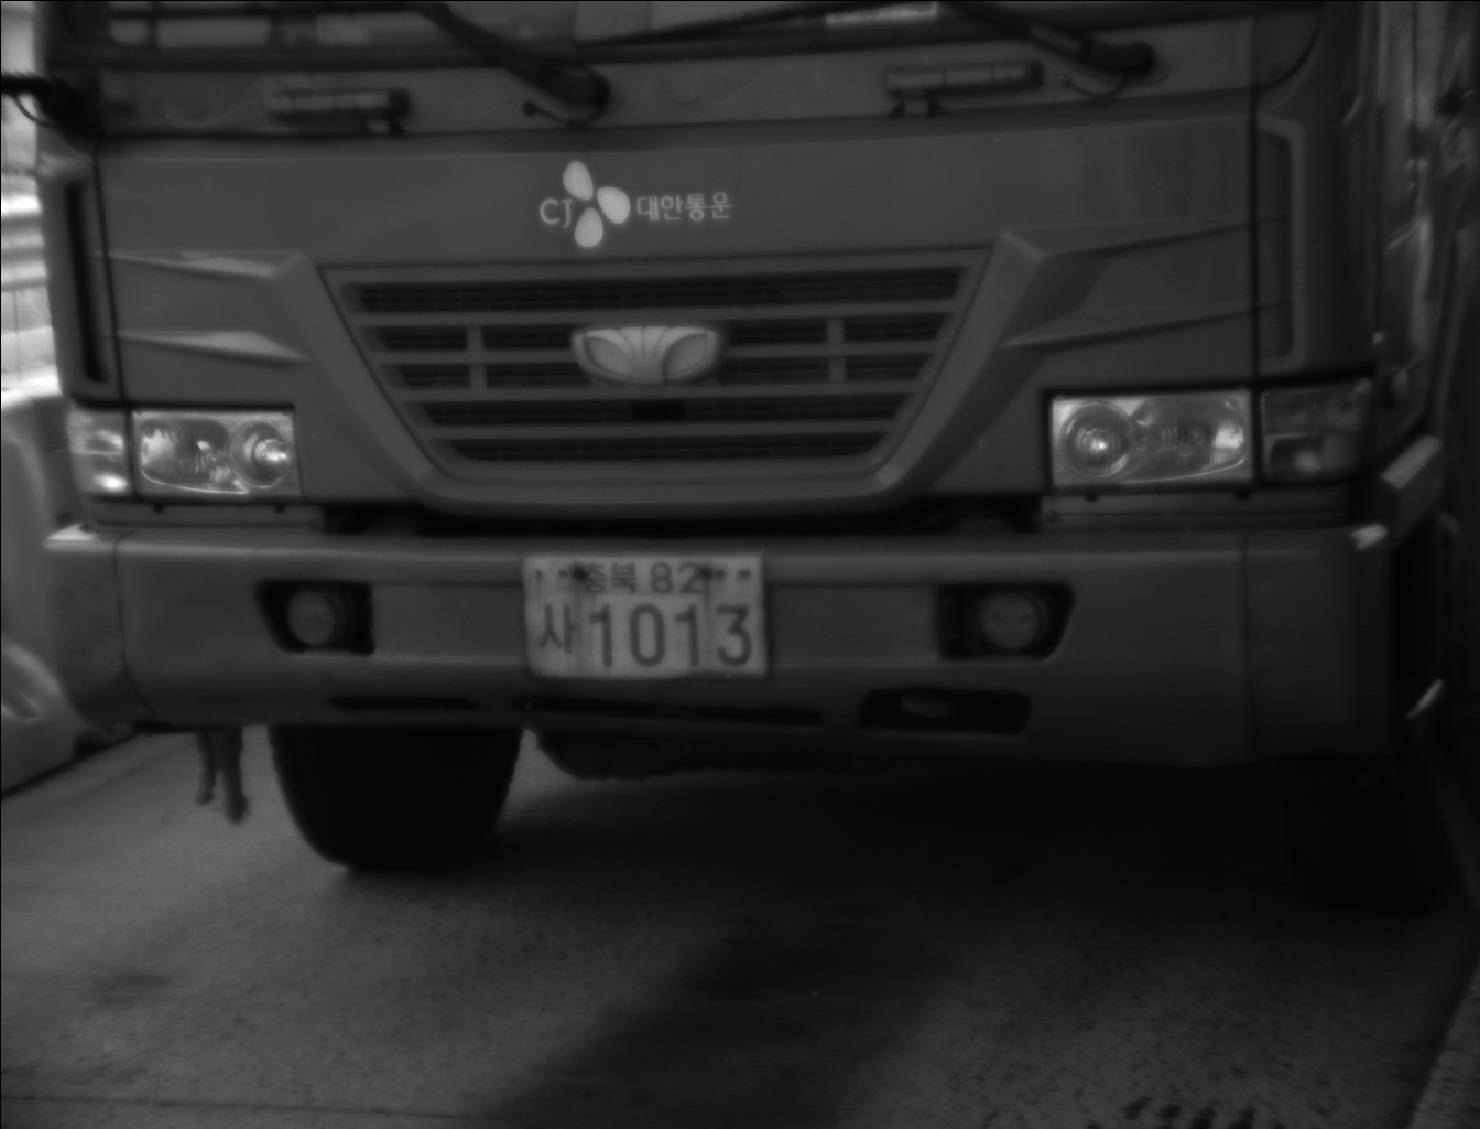car: (1, 1, 1472, 877)
plate: (517, 552, 771, 682)
